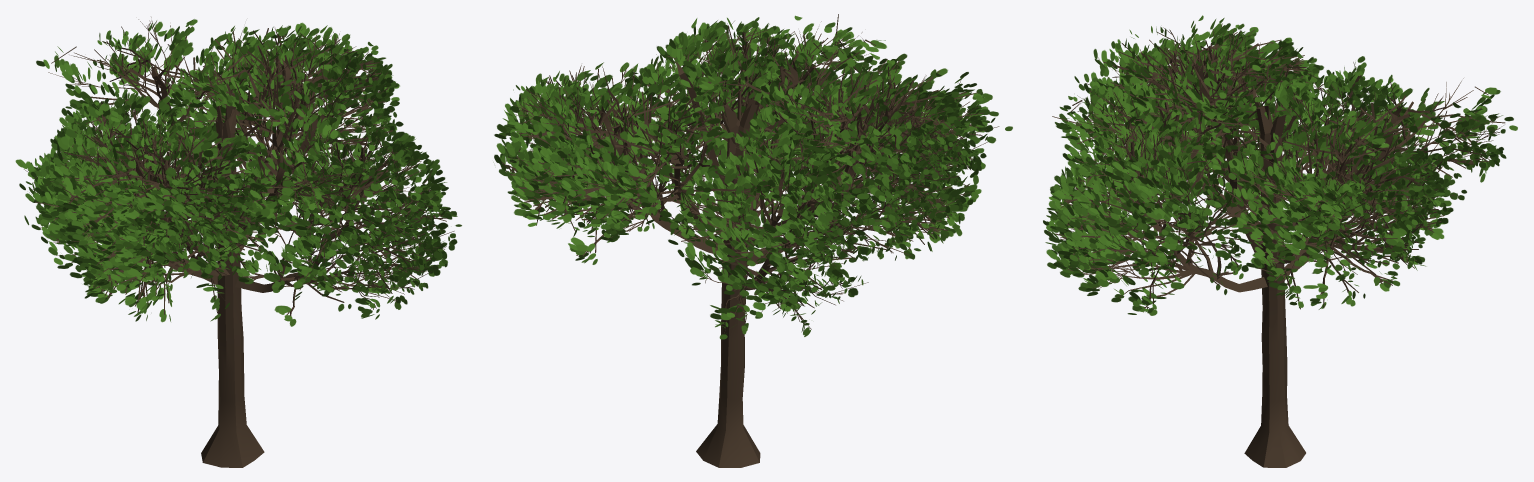
The picture shows the model from 3 angles, left to right: view 1: azimuth 30°, elevation 25°; view 2: azimuth 150°, elevation 25°; view 3: azimuth 270°, elevation 25°; orthographic projection. The views are drawn at different scales.
Parts seen in each view (by area): view 1: oak 01.001_trunk_Mat.001_0.041; view 2: oak 01.001_trunk_Mat.001_0.041; view 3: oak 01.001_trunk_Mat.001_0.041.
Part boxes in pixels (<box>): oak 01.001_trunk_Mat.001_0.041: <box>15,17,461,467</box>; oak 01.001_trunk_Mat.001_0.041: <box>493,14,1012,467</box>; oak 01.001_trunk_Mat.001_0.041: <box>1043,15,1517,467</box>.
Size of the model in its own units: 4.43 by 3.79 by 4.54.
2 materials, 1 textured.
